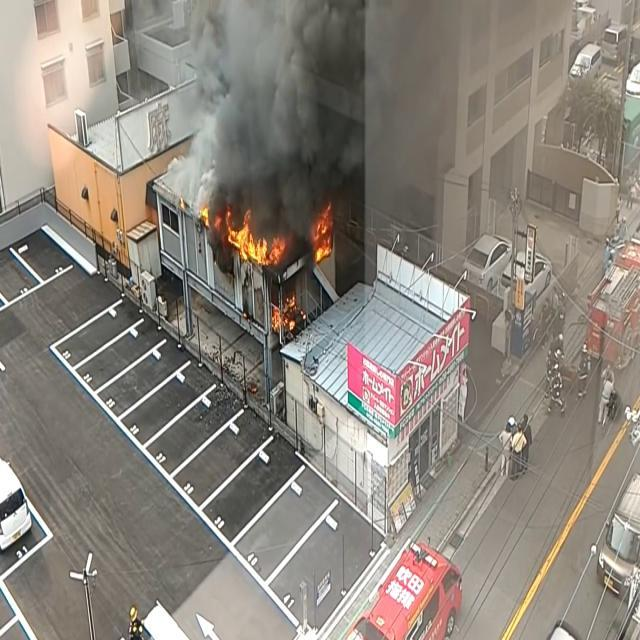Fire: (223, 213, 287, 270), (309, 199, 339, 269), (272, 283, 300, 337)
Smoke: (166, 0, 462, 227)
